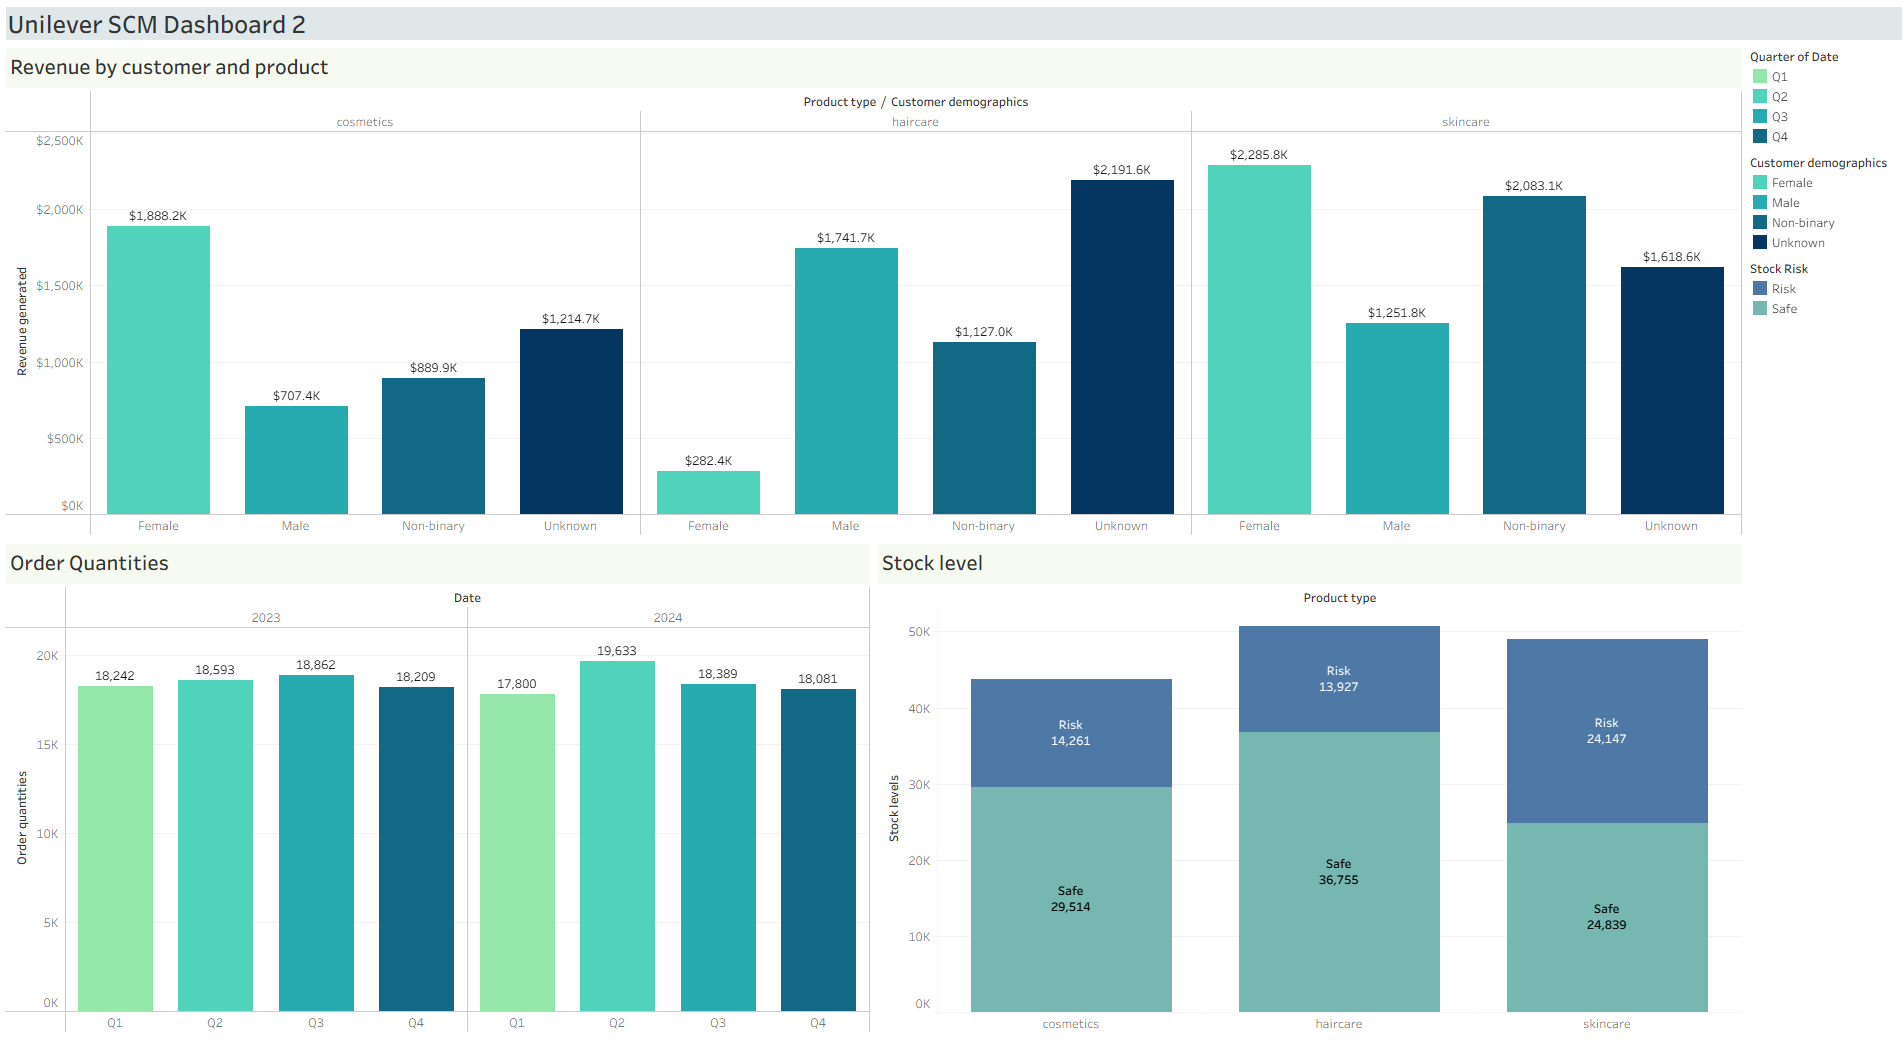

The page's visual inventory and layout, read from the dashboard file:
{"tool":"tableau","page":{"name":"Unilever SCM Dashboard 2","canvas":[1000,1000],"units":"permille","ordinal":1},"visuals":[{"type":"title","box":[4.2,8.9,991.6,45.8]},{"type":"worksheet","title":"Revenue by customer and product","mark":"Automatic","rows":["Revenue generated"],"cols":["Product type","Customer demographics"],"box":[4.2,54.7,907.1,468.2]},{"type":"legend","title":"Order Quantities","param":"[federated.0toibn90woc6wi15i6tn81vprhmb].[qr:Date:ok]","box":[911.3,54.7,84.5,118.3]},{"type":"legend","title":"Revenue by customer and product","param":"[federated.0toibn90woc6wi15i6tn81vprhmb].[none:Customer demographics:nk]","box":[911.3,173,84.5,118.3]},{"type":"legend","title":"Stock level","param":"[federated.0toibn90woc6wi15i6tn81vprhmb].[none:Calculation_0313685053628421:nk]","box":[911.3,291.3,84.5,73.7]},{"type":"worksheet","title":"Order Quantities","mark":"Bar","rows":["Order quantities"],"cols":["Date","Date"],"box":[4.2,522.9,453.5,468.2]},{"type":"worksheet","title":"Stock level","mark":"Automatic","rows":["Stock levels"],"cols":["Product type"],"box":[457.7,522.9,453.6,468.2]}]}

Visuals, with their boxes on the dashboard's canvas, which has no fixed pixel size, in thousandths of its width and height (x1, y1, x2, y2). These are canvas units, not pixel positions in the 1904x1040 screenshot, which may show the page scaled, cropped or inside an application window:
title: {"x1": 4, "y1": 9, "x2": 996, "y2": 55}
"Revenue by customer and product" worksheet: {"x1": 4, "y1": 55, "x2": 911, "y2": 523}
"Order Quantities" legend: {"x1": 911, "y1": 55, "x2": 996, "y2": 173}
"Revenue by customer and product" legend: {"x1": 911, "y1": 173, "x2": 996, "y2": 291}
"Stock level" legend: {"x1": 911, "y1": 291, "x2": 996, "y2": 365}
"Order Quantities" worksheet (Bar marks): {"x1": 4, "y1": 523, "x2": 458, "y2": 991}
"Stock level" worksheet: {"x1": 458, "y1": 523, "x2": 911, "y2": 991}
